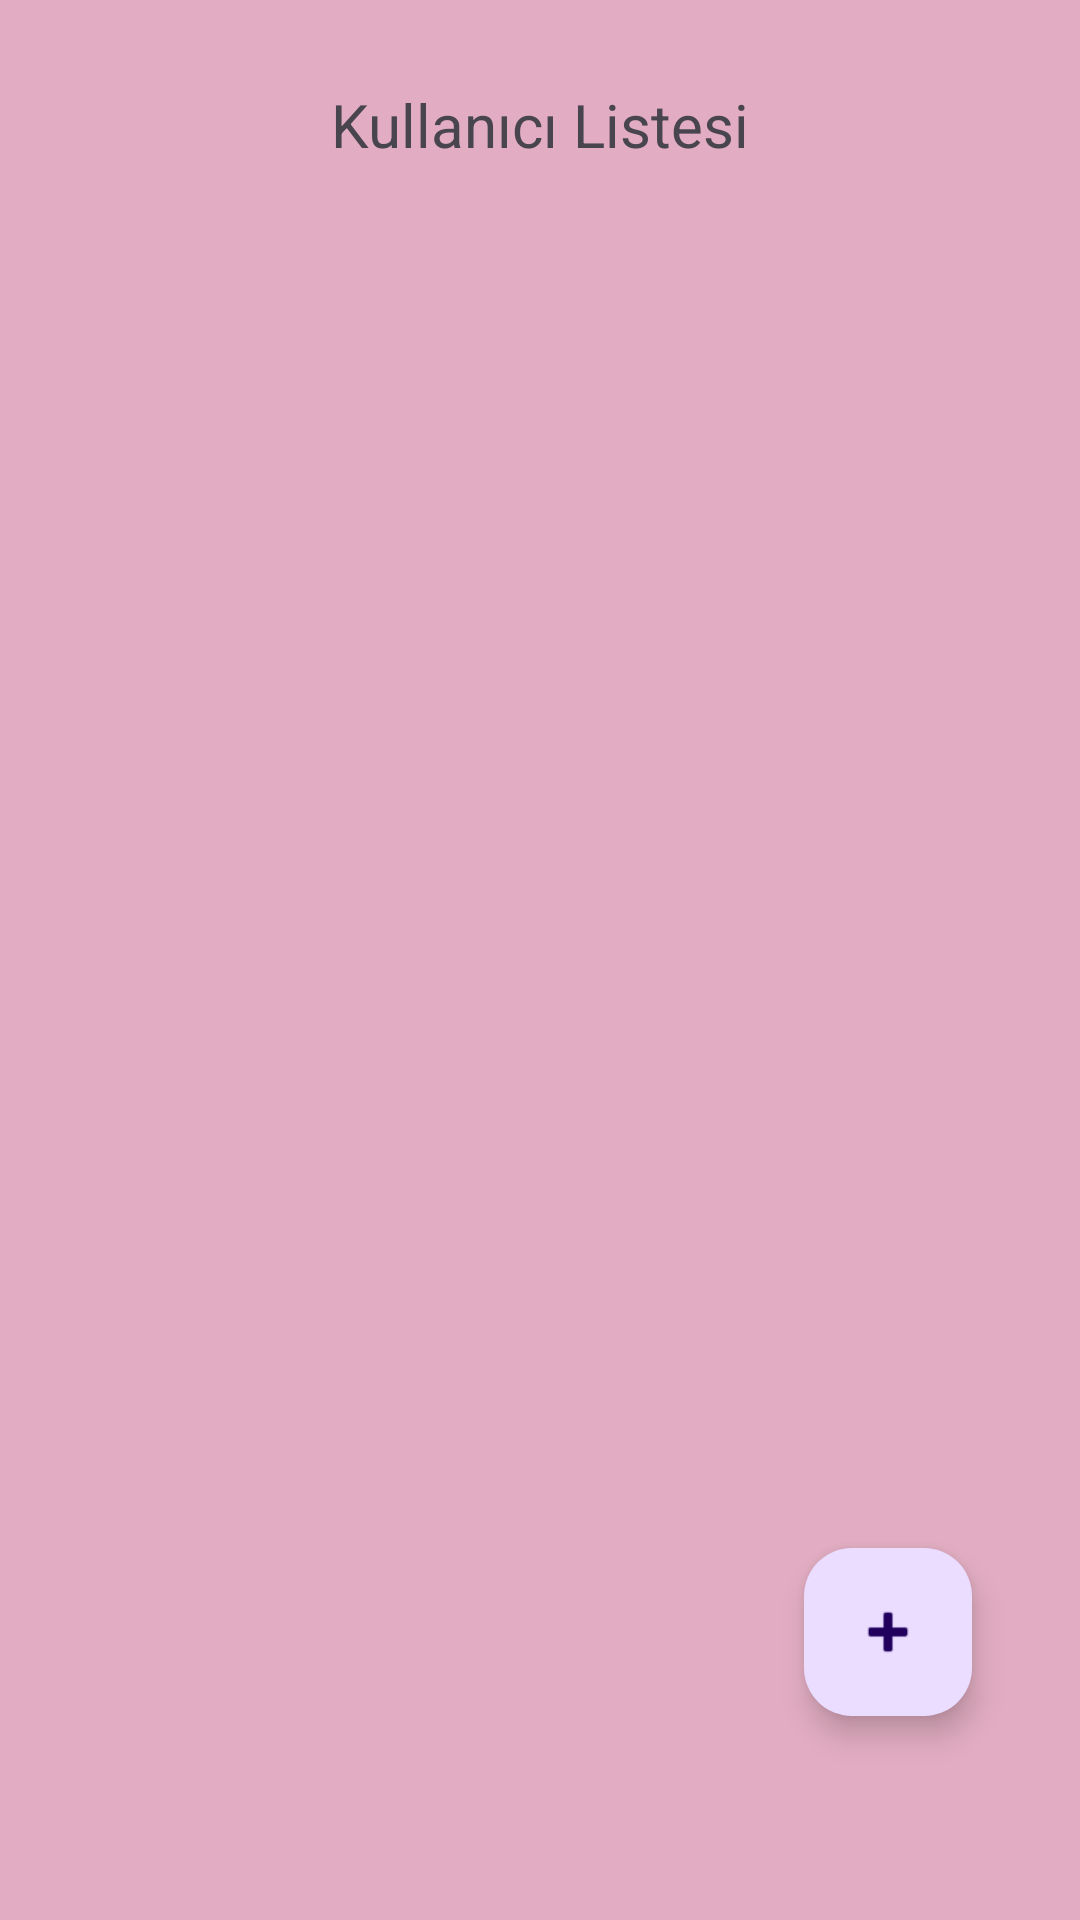

Icon click points for this 1080px x 1920px phone screenshot, format (x,y):
add: (888,1632)
